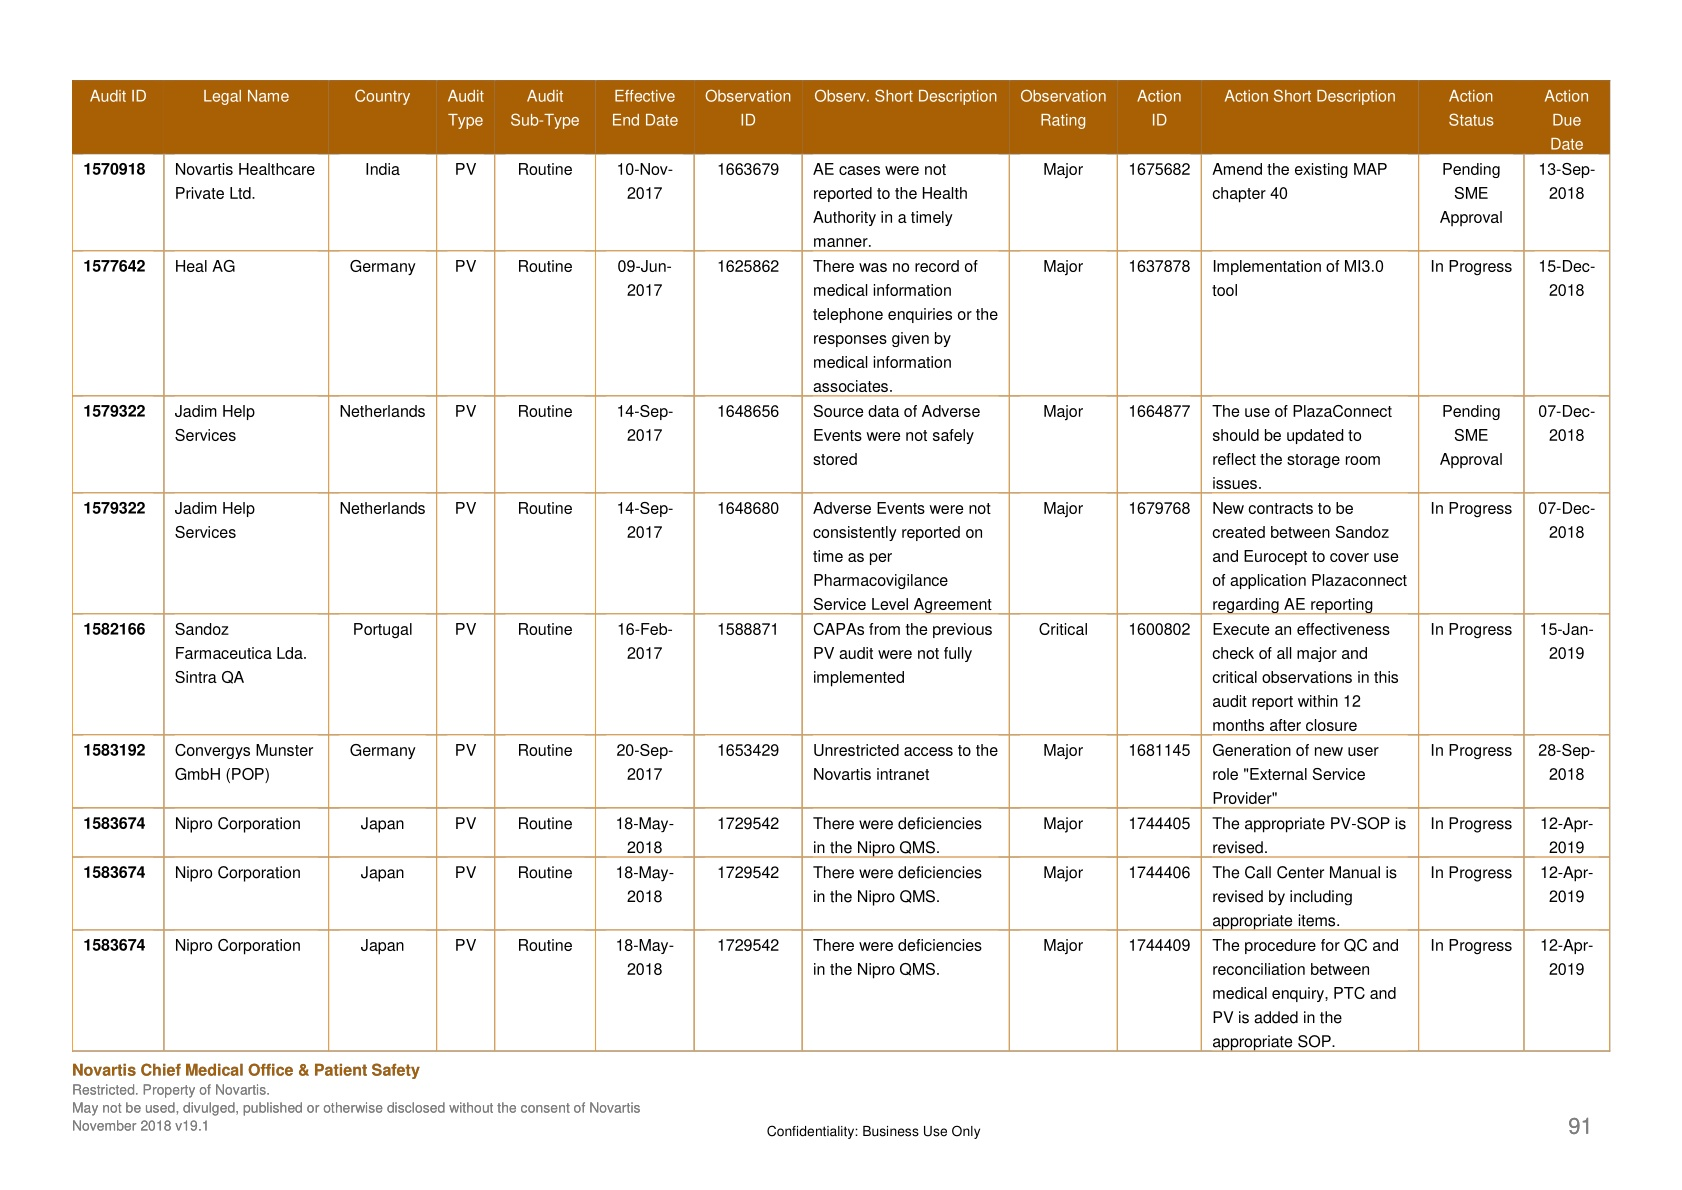full_lined: (72, 79, 1611, 1052)
